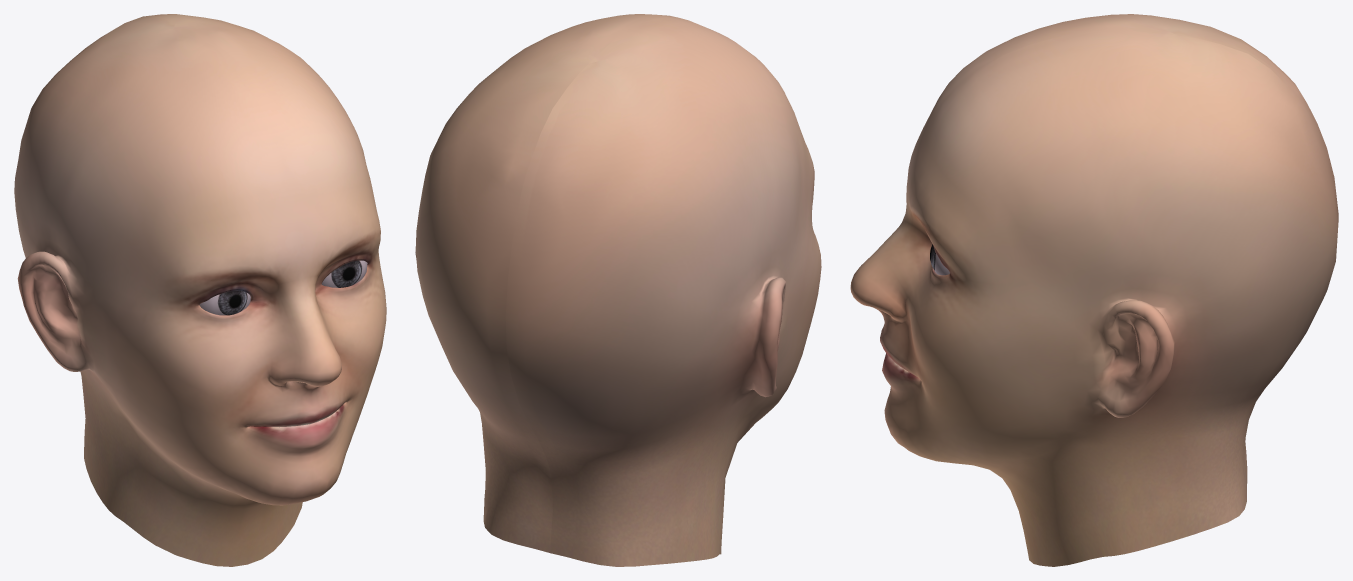
The model's file is HeadObject.fbx.
The picture shows the model from 3 angles, left to right: view 1: azimuth 30°, elevation 25°; view 2: azimuth 150°, elevation 25°; view 3: azimuth 270°, elevation 25°; orthographic projection. The views are drawn at different scales.
Visible parts, largest first — view 1: Head; view 2: Head; view 3: Head.
Part boxes in pixels (x1=…): Head: x1=14, y1=14, x2=386, y2=566; Head: x1=415, y1=14, x2=821, y2=566; Head: x1=850, y1=14, x2=1338, y2=566.
Bounding box in the file's own units: 0.1709 × 0.2462 × 0.2079.
Materials: 1 (1 with a texture image).
